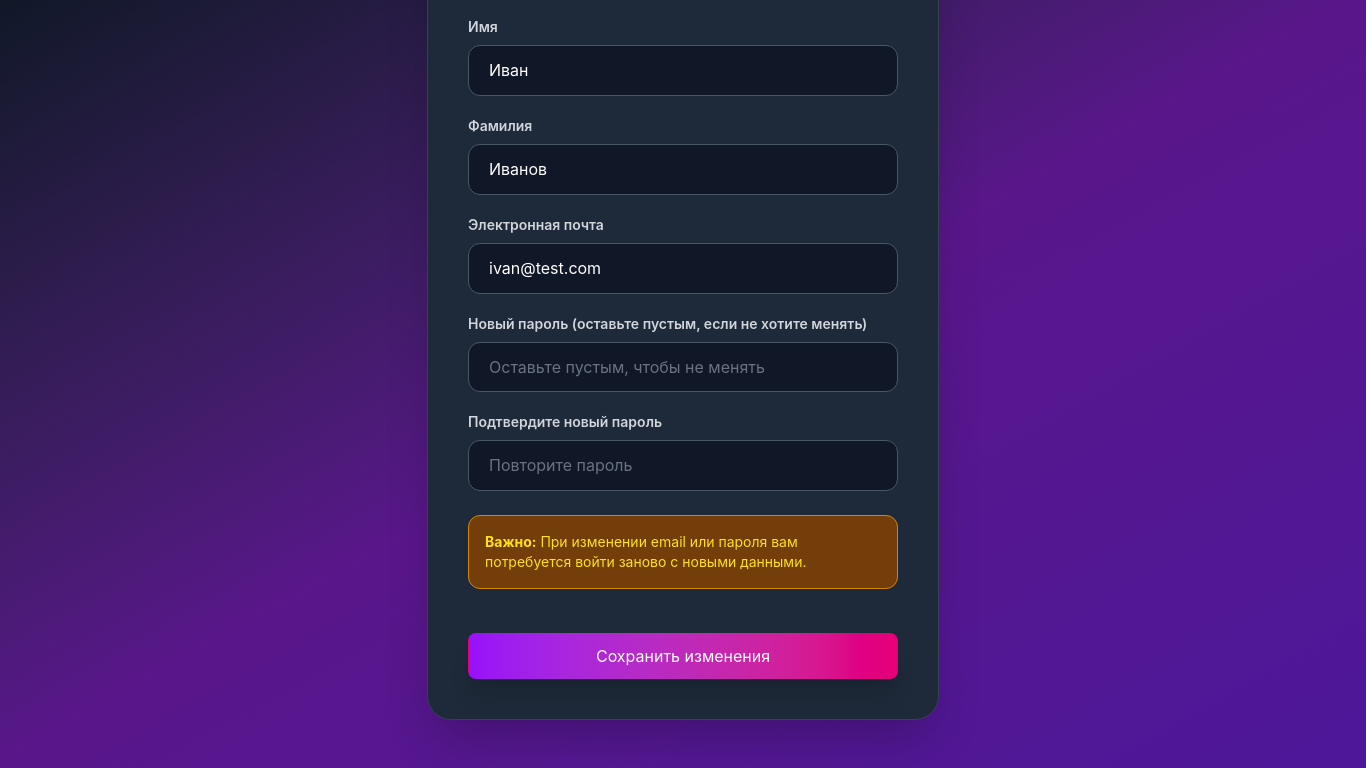
Scenario: Profile Page Coverage › должен обрабатывать ошибки сервера при обновлении
(page scrolled)
Click the button "Сохранить изменения": (683, 656) [468, 633, 898, 679]
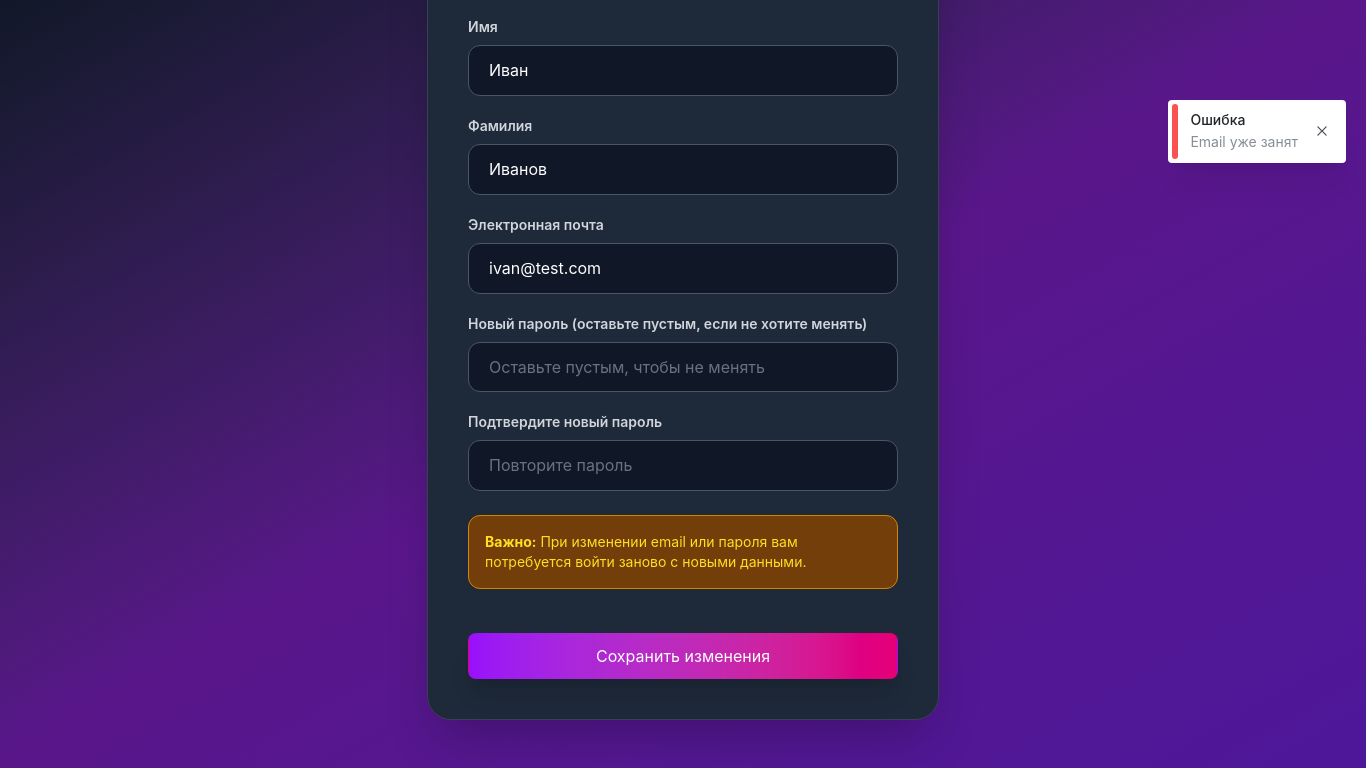
Check: the text "Email уже занят" is shown, box [1190, 132, 1298, 153]
